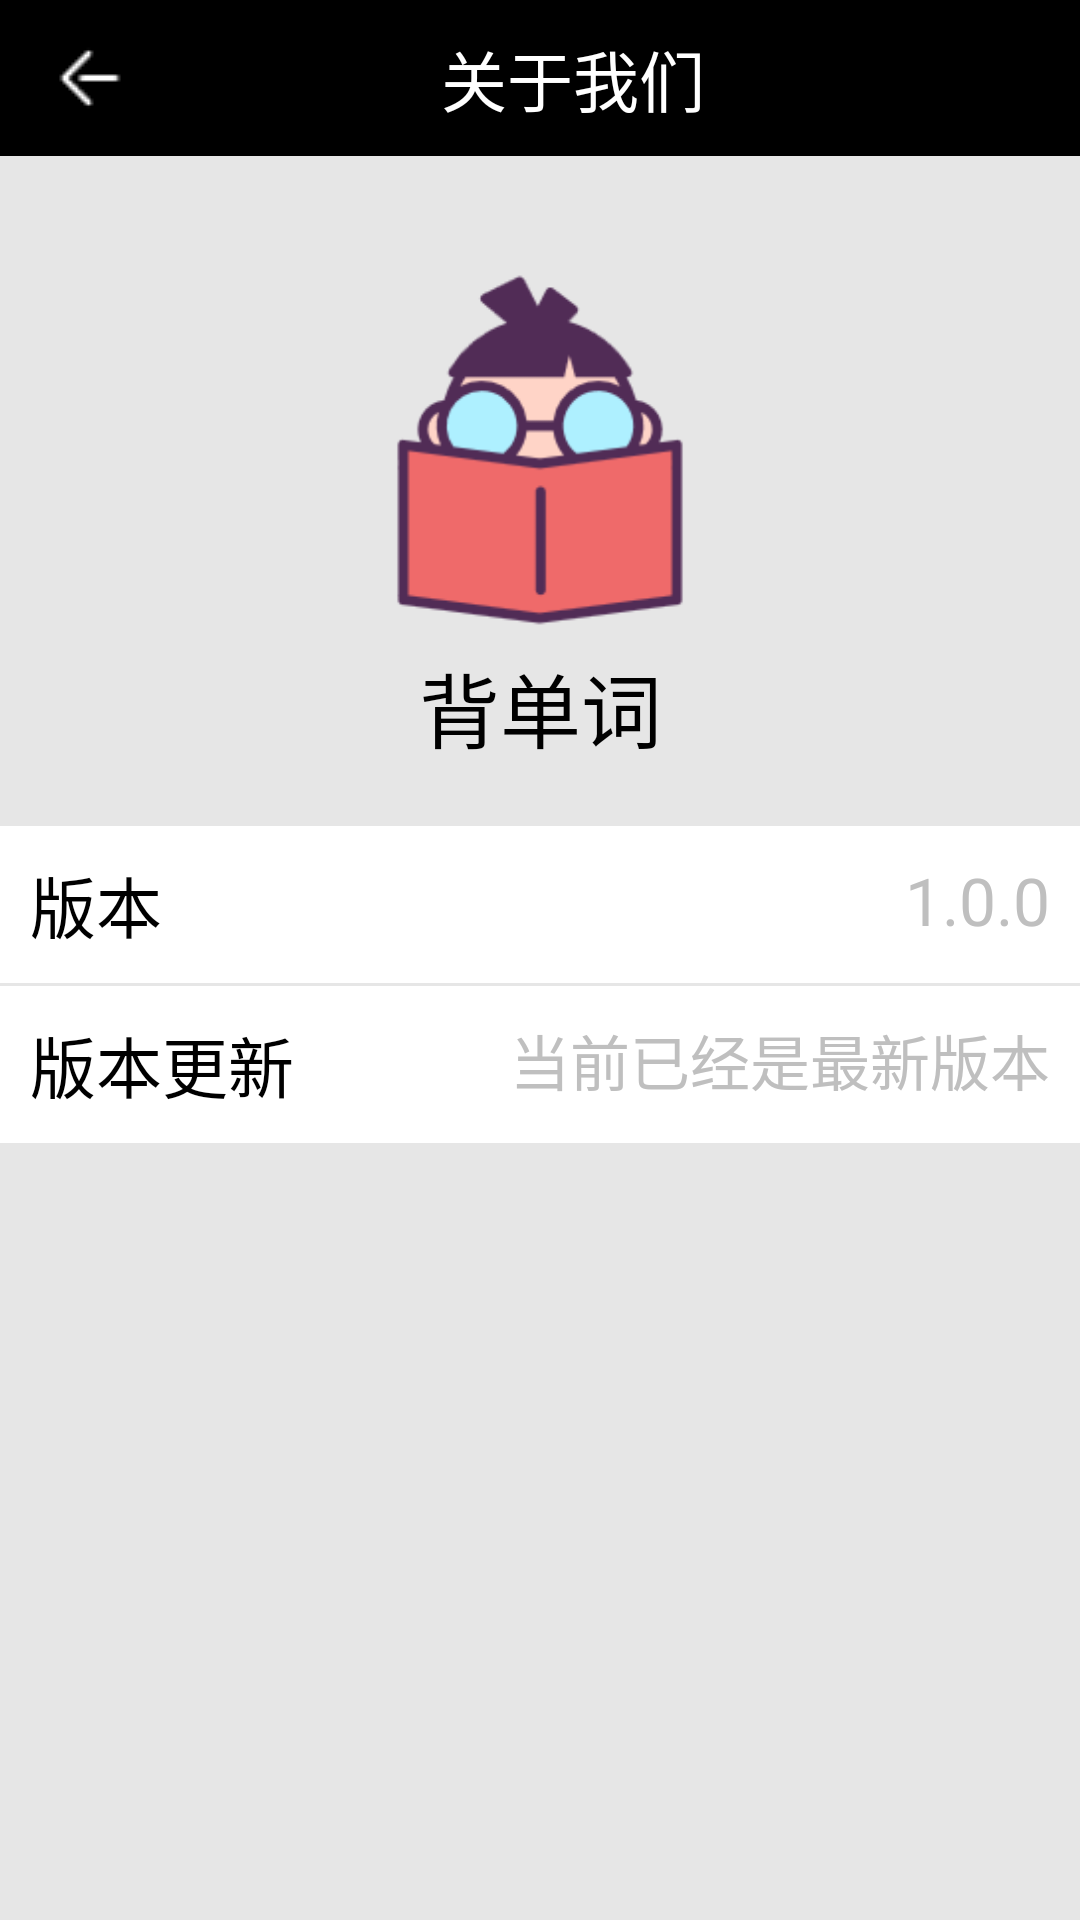

Screen size 1080w x 1920h. Icon name, then its center in pixels as (x=x, y=y):
back: (x=90, y=78)
